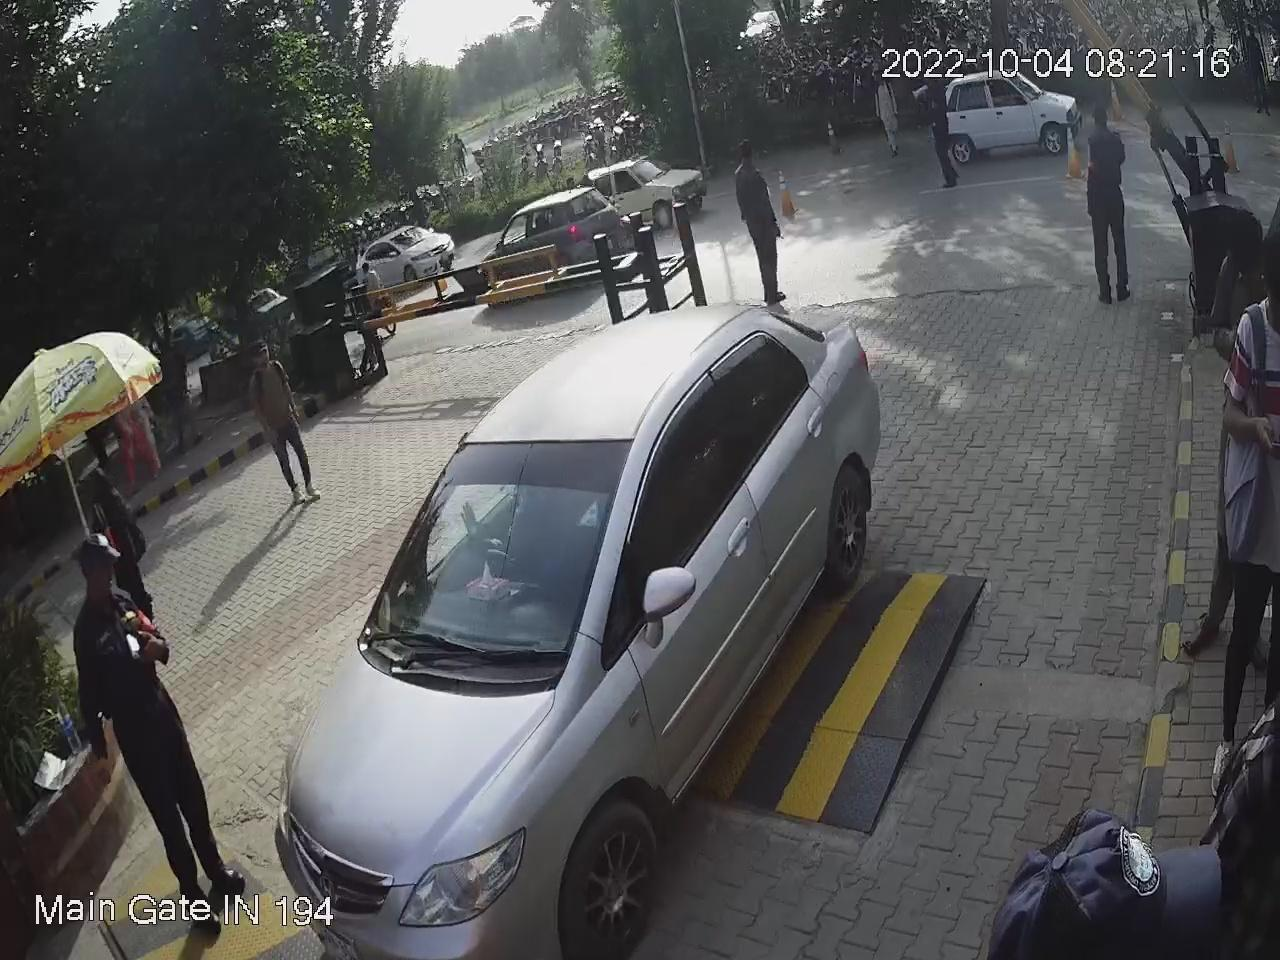windshield: (353, 435, 636, 700)
